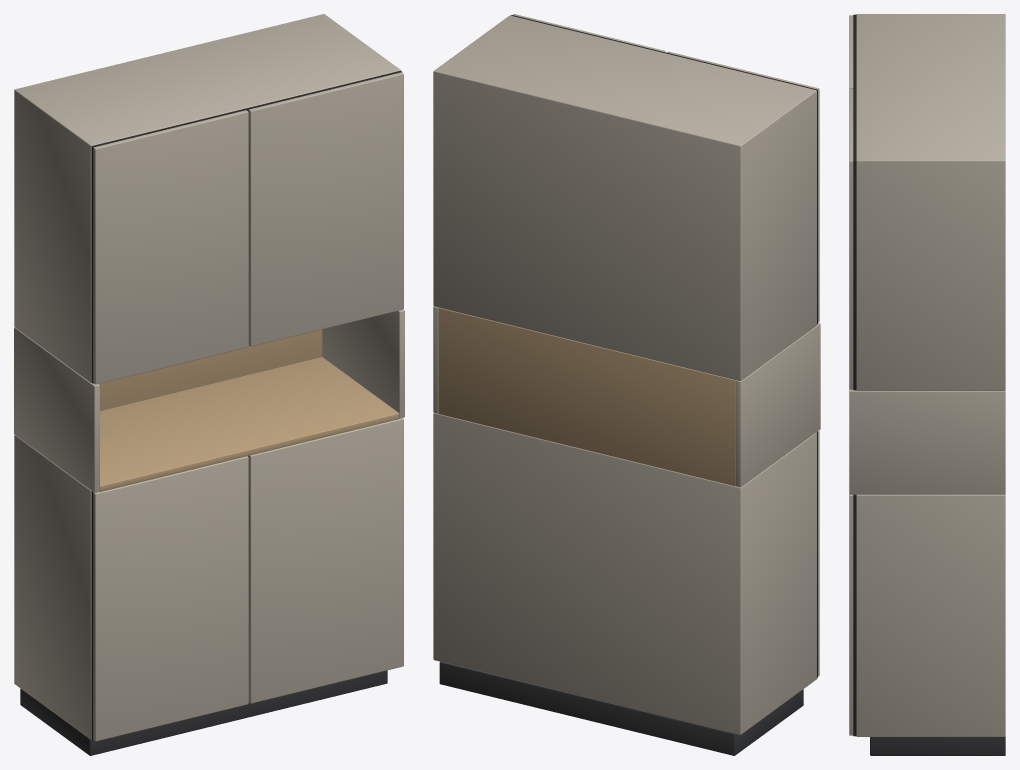
Rendered from storage.glb.
3 views of the same model, side by side, from view 1: azimuth 30°, elevation 25°; view 2: azimuth 150°, elevation 25°; view 3: azimuth 270°, elevation 25° (orthographic). The views are drawn at different scales.
Parts seen in each view (by area): view 1: body_up, door_low0, door_low1, door_up1, door_up0, niche_floor, body_low, niche_side0, niche_back, niche_side1, plinth, door_up_bed (+1 smaller); view 2: body_up, body_low, niche_back, niche_side0, plinth, door_up0, door_up_bed; view 3: body_up, body_low, niche_side1, plinth, door_up1, door_up_bed, door_low1, door_low_bed, door_up0.
Boxes of the visible parts, <box> form: body_up: <box>14,14,400,382</box>; door_low0: <box>93,456,248,741</box>; door_low1: <box>248,418,403,703</box>; door_up1: <box>248,72,403,346</box>; door_up0: <box>93,110,248,384</box>; niche_floor: <box>100,357,399,491</box>; body_low: <box>14,434,91,739</box>; niche_side0: <box>14,327,99,492</box>; niche_back: <box>99,329,322,410</box>; niche_side1: <box>322,309,404,418</box>; plinth: <box>20,670,387,755</box>; door_up_bed: <box>91,70,402,383</box>; body_up: <box>433,15,816,381</box>; body_low: <box>433,413,816,734</box>; niche_back: <box>438,308,735,486</box>; niche_side0: <box>735,323,820,487</box>; plinth: <box>439,661,803,755</box>; door_up0: <box>667,51,819,322</box>; door_up_bed: <box>511,15,817,324</box>; body_up: <box>856,14,1005,390</box>; body_low: <box>856,494,1005,736</box>; niche_side1: <box>849,389,1005,494</box>; plinth: <box>870,736,1005,755</box>; door_up1: <box>849,88,853,389</box>; door_up_bed: <box>853,14,856,390</box>; door_low1: <box>849,494,853,735</box>; door_low_bed: <box>853,494,856,736</box>; door_up0: <box>849,15,853,88</box>.
Bounding box in the file's own units: 1 × 1.9 × 0.45.
